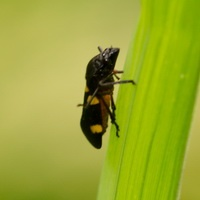insect: (78, 47, 134, 148)
